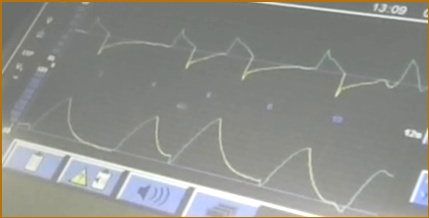Ineffective_effort Flow: (71, 12, 429, 99)
Ineffective_effort Volume: (20, 98, 394, 213)
